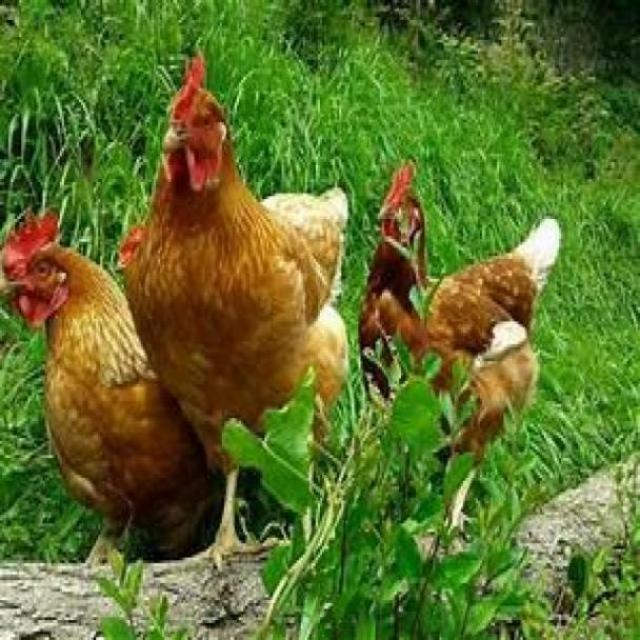Chicken: (121, 48, 350, 572), (0, 211, 209, 566), (358, 162, 561, 467), (115, 188, 350, 304)
